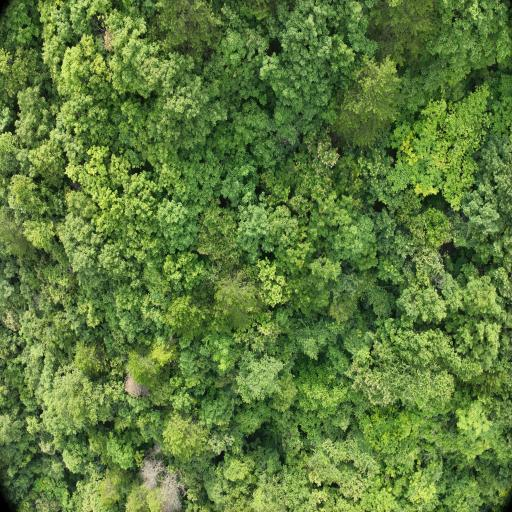dead-tree: (142, 463, 160, 484), (124, 378, 142, 394)
